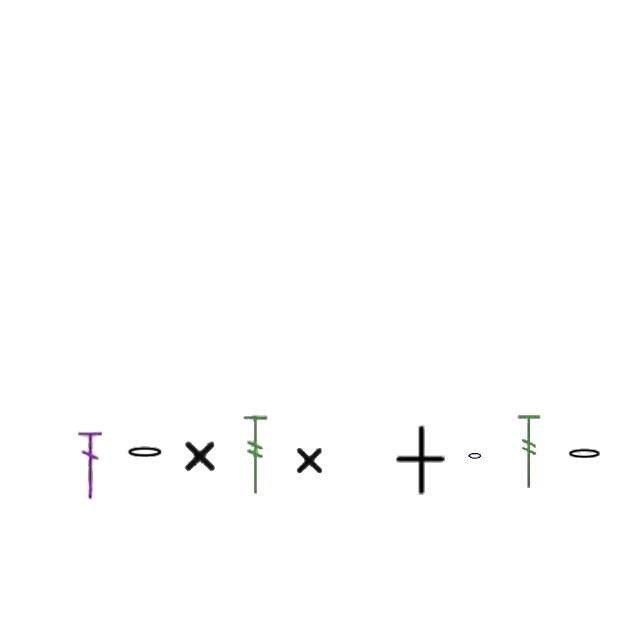chain: (78, 428, 102, 500)
half_double: (241, 414, 269, 496), (516, 414, 544, 490)
slip_stitch: (392, 426, 448, 496), (182, 436, 218, 474), (294, 444, 326, 476)
treble: (125, 446, 165, 460), (566, 447, 604, 461), (467, 450, 483, 462)
